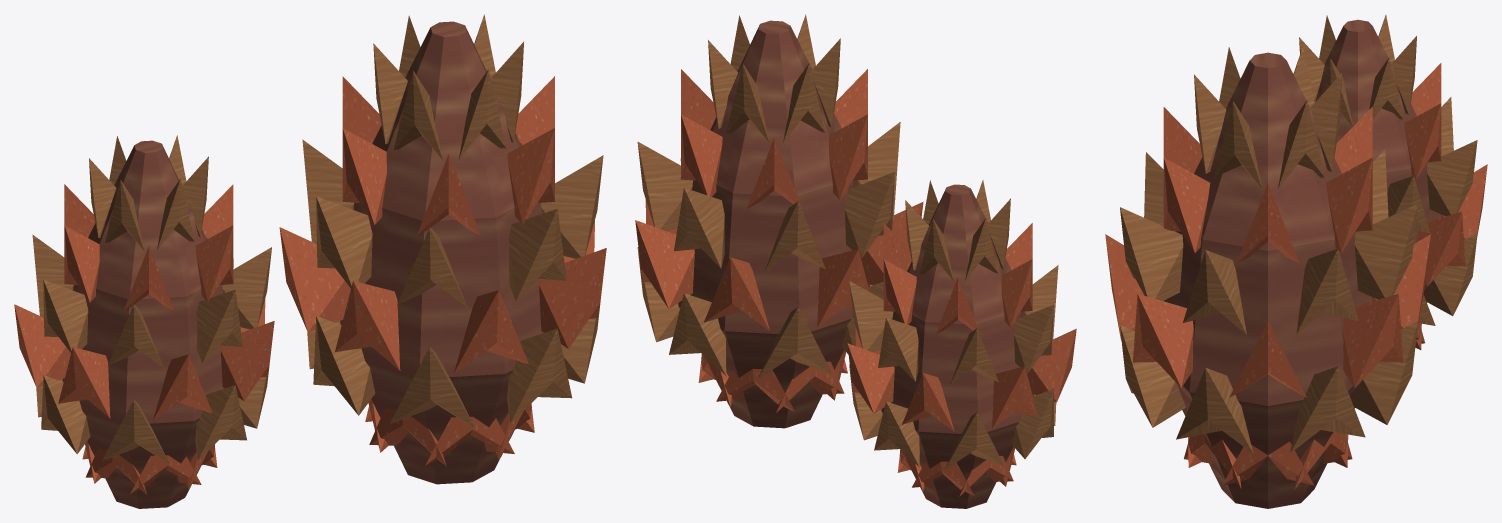
File: pinecones_pair.glb
The picture shows the model from 3 angles, left to right: view 1: azimuth 30°, elevation 25°; view 2: azimuth 150°, elevation 25°; view 3: azimuth 270°, elevation 25°; orthographic projection. The views are drawn at different scales.
Parts seen in each view (by area): view 1: pinecones_pair; view 2: pinecones_pair; view 3: pinecones_pair.
Part boxes in pixels (x1,y1,x2,y2): pinecones_pair: (14, 14, 606, 508); pinecones_pair: (635, 14, 1076, 508); pinecones_pair: (1105, 15, 1487, 508).
Size of the model in its own units: 0.122 by 0.1 by 0.0808.
3 materials, 3 textured.
